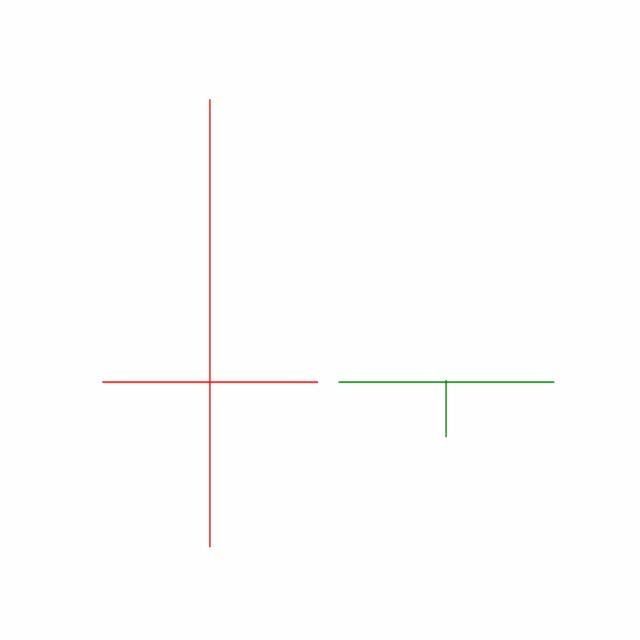Dragonfly Doji: (328, 380, 566, 438)
